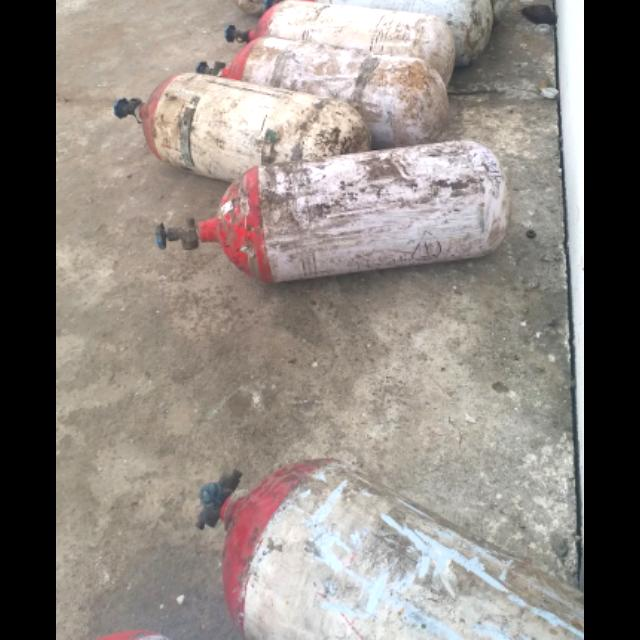Cylinders: (185, 454, 582, 639), (160, 136, 516, 285), (107, 75, 376, 178)
